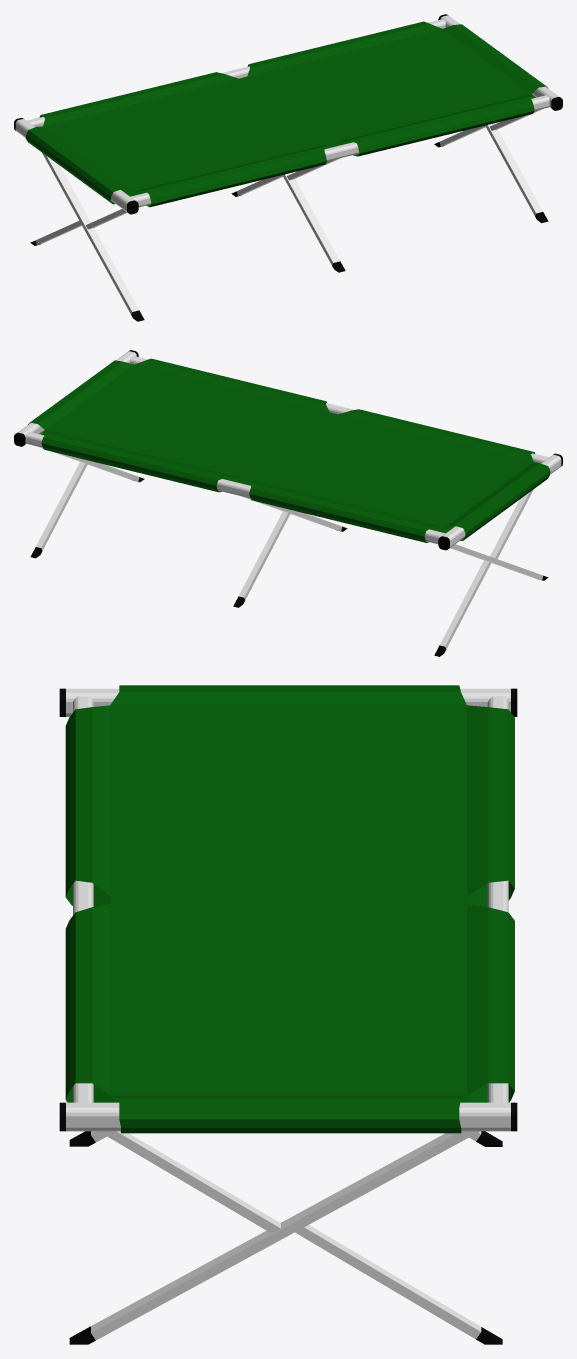
File: Bed.fbx
3 views of the same model, one above another, from view 1: azimuth 30°, elevation 25°; view 2: azimuth 150°, elevation 25°; view 3: azimuth 270°, elevation 25° (orthographic). The views are drawn at different scales.
Parts seen in each view (by area): view 1: Plane.002; view 2: Plane.002; view 3: Plane.002.
Part boxes in pixels (box(x1,y1,x2,y2)): Plane.002: box(14, 14, 562, 321); Plane.002: box(14, 350, 562, 656); Plane.002: box(59, 685, 517, 1344).
Bounding box in the file's own units: 2899 × 787 × 1311.
